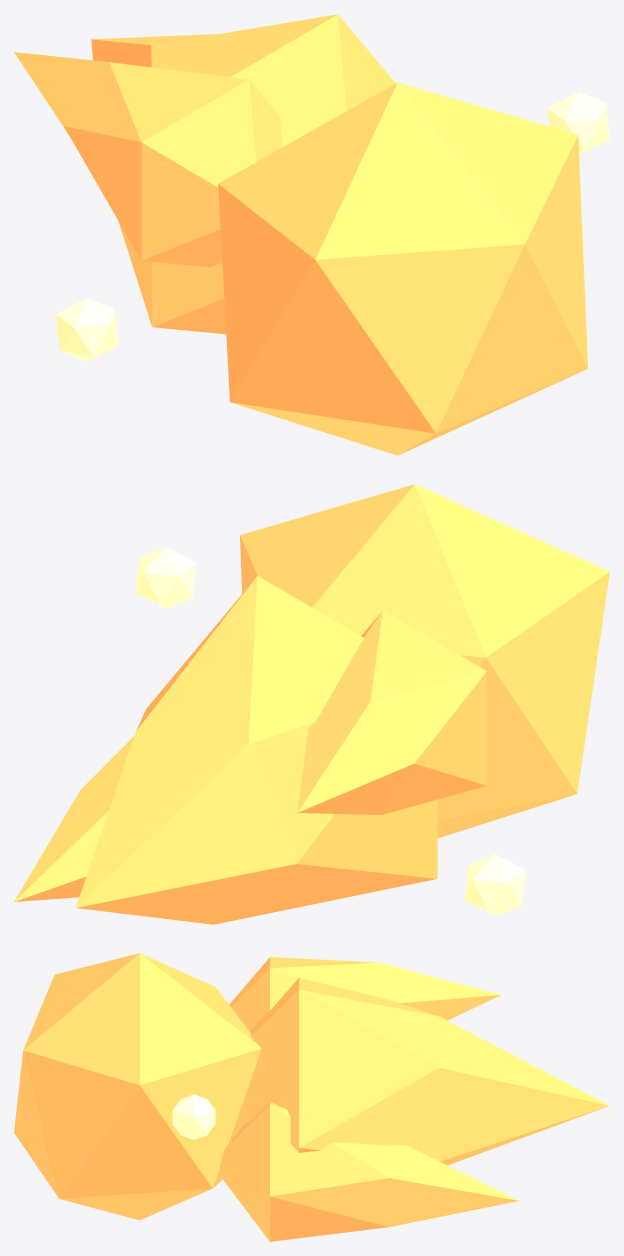
File: Shot_Fire.fbx
The picture shows the model from 3 angles, top to bottom: view 1: azimuth 30°, elevation 25°; view 2: azimuth 150°, elevation 25°; view 3: azimuth 270°, elevation 25°; orthographic projection. The views are drawn at different scales.
Visible parts, largest first — view 1: Flame, Embers; view 2: Flame, Embers; view 3: Flame, Embers.
Boxes of the visible parts, x1,y1,x2,y2 form: Flame: (14,14,587,455); Embers: (56,92,609,361); Flame: (14,484,609,924); Embers: (136,547,525,915); Flame: (14,953,609,1241); Embers: (172,1094,215,1139).
Bounding box in the file's own units: 1.08 × 0.8155 × 1.65.
